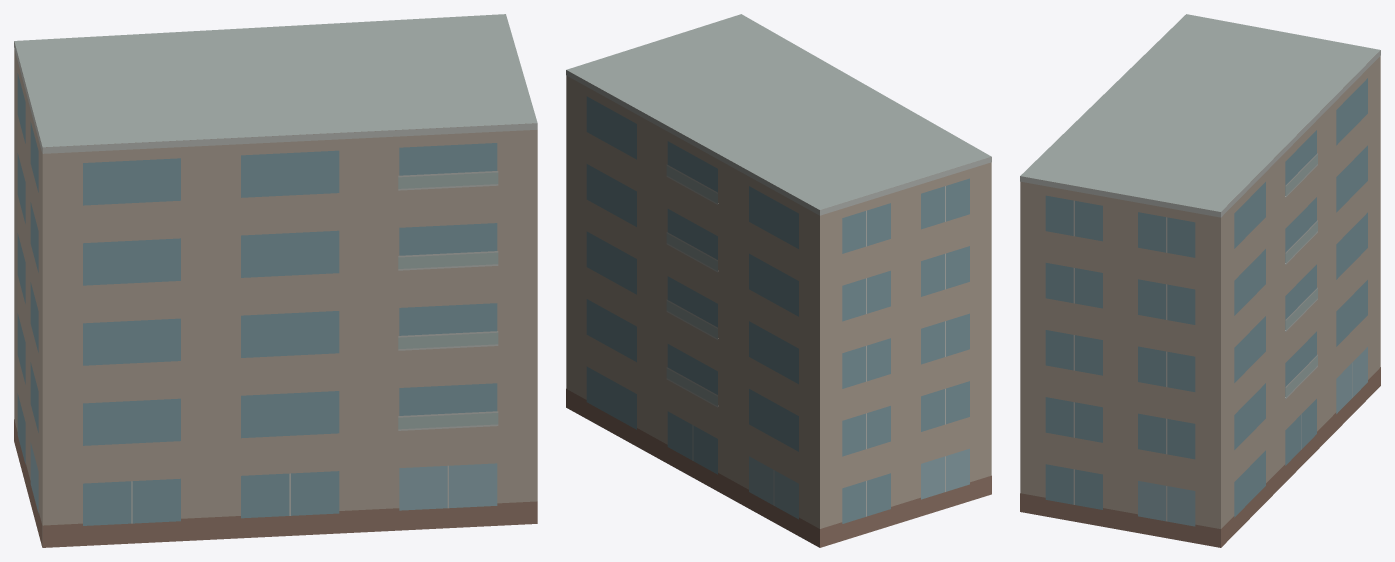
The model's file is survey-upis-32567329.glb.
3 views of the same model, side by side, from view 1: azimuth 30°, elevation 25°; view 2: azimuth 150°, elevation 25°; view 3: azimuth 270°, elevation 25° (orthographic). The views are drawn at different scales.
Parts seen in each view (by area): view 1: survey-upis-32567329.tmp; view 2: survey-upis-32567329.tmp; view 3: survey-upis-32567329.tmp.
Part boxes in pixels (box(x1,y1,x2,y2)): survey-upis-32567329.tmp: box(14, 14, 537, 547); survey-upis-32567329.tmp: box(566, 14, 991, 547); survey-upis-32567329.tmp: box(1020, 14, 1380, 547).
Size of the model in its own units: 18.73 by 14.8 by 14.42.
